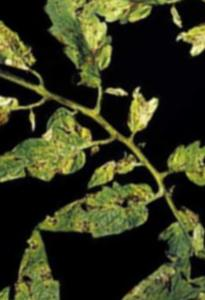Tomato Septoria leaf spot: (0, 80, 108, 228), (36, 150, 159, 274), (9, 0, 139, 99), (106, 202, 205, 300), (167, 114, 205, 222), (111, 82, 168, 141), (83, 142, 137, 198), (0, 68, 23, 170)
